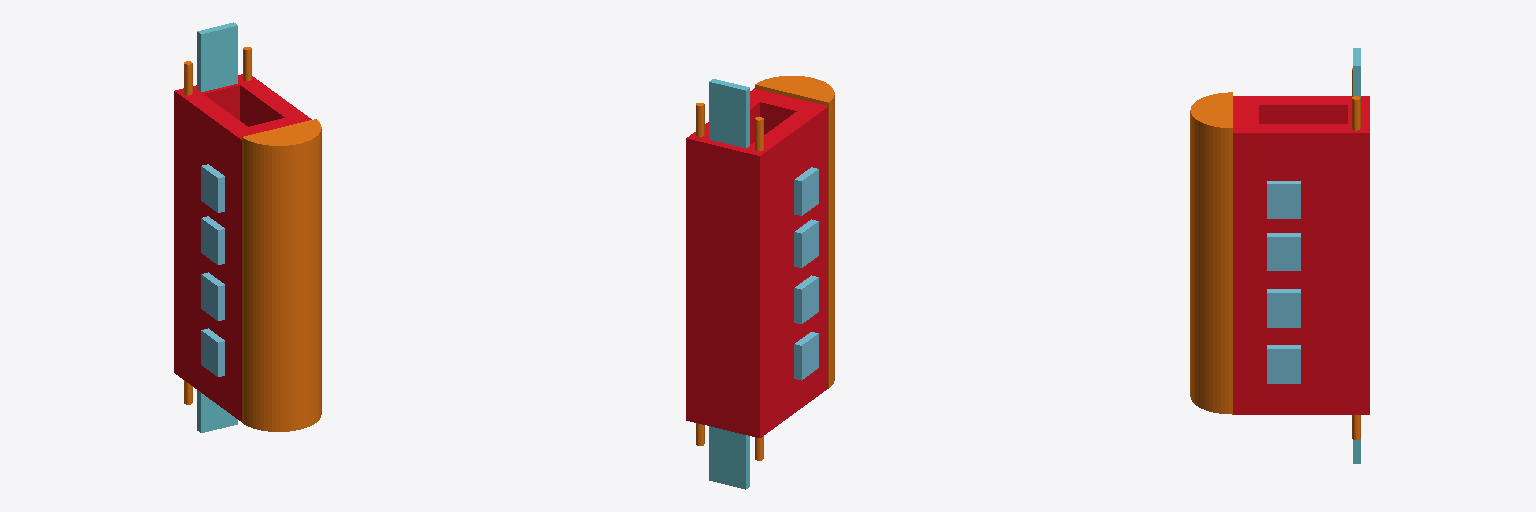
Rendered from Train.obj.
3 renders of one model, left to right at view 1: azimuth 30°, elevation 25°; view 2: azimuth 150°, elevation 25°; view 3: azimuth 270°, elevation 25°, orthographic.
Parts seen in each view (by area): view 1: obj_0; view 2: obj_0; view 3: obj_0.
Part boxes in pixels (x1,y1,x2,y2): obj_0: (174, 22, 321, 432); obj_0: (686, 76, 834, 489); obj_0: (1190, 48, 1369, 463).
Size of the model in its own units: 24 by 103 by 42.